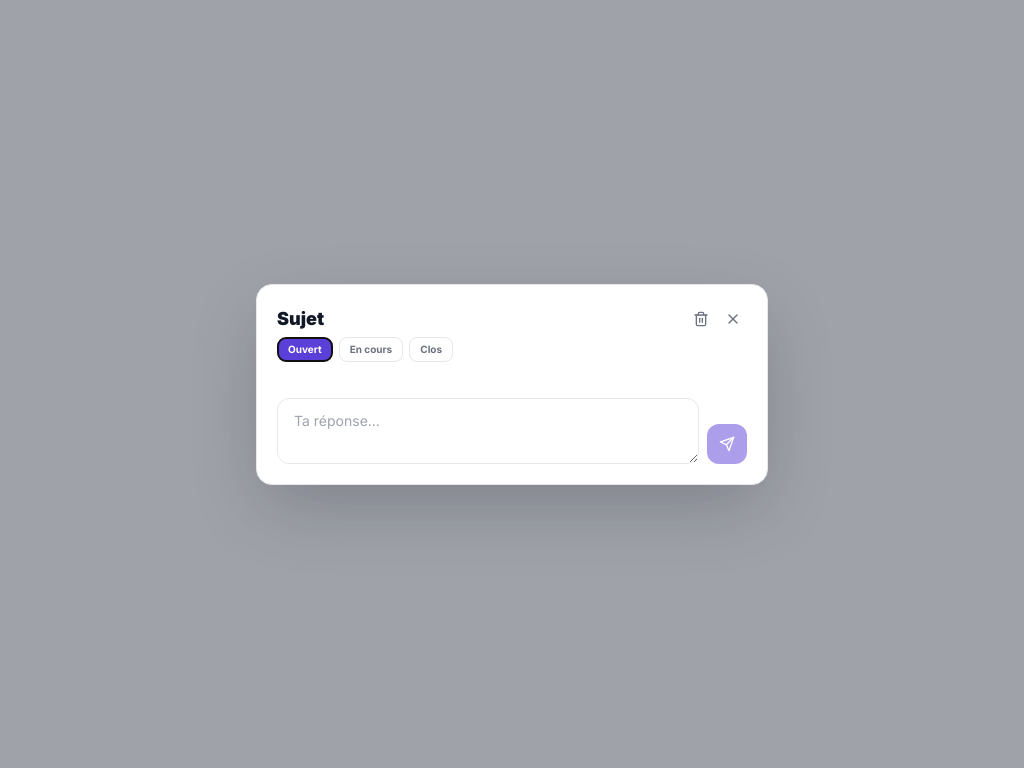
Test: TicketDetailModal -- suppression du ticket › affiche le bouton de suppression pour un admin, qui ouvre une modale de confirmation
Check: the text "Supprimer ce ticket ?" is not shown
What coordinates should you click on to do the following:
click the button named "Supprimer ce ticket"
I would click on:
 (701, 318)
Its box is x1=687 y1=304 x2=715 y2=332.
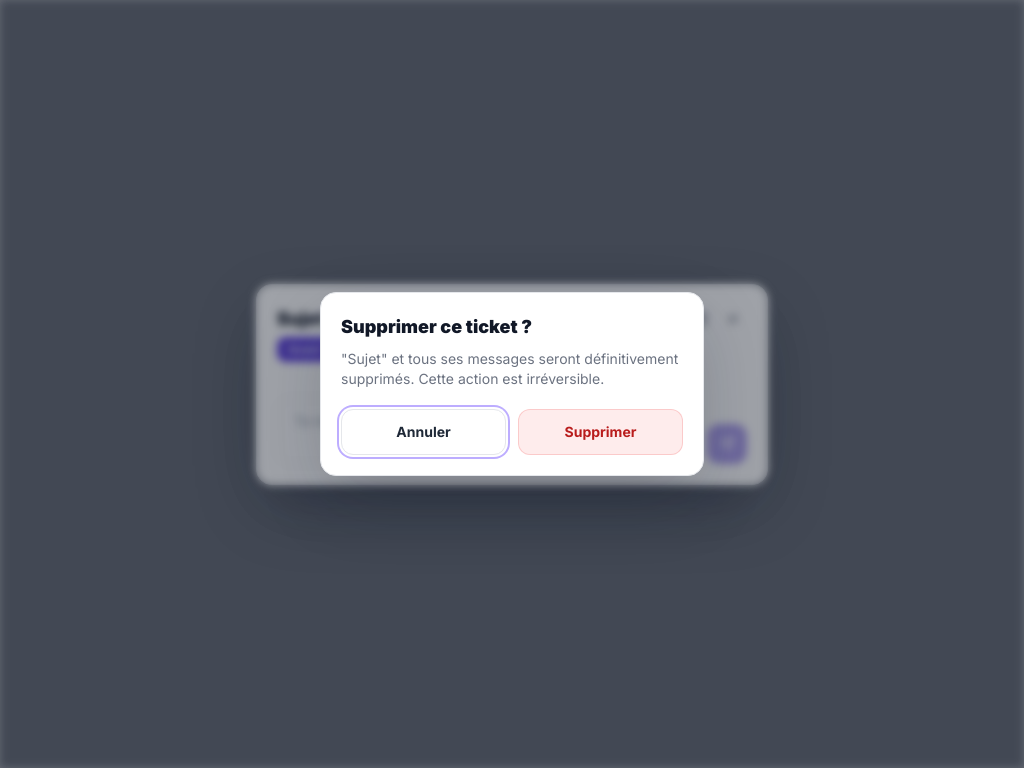
Check: the heading "Supprimer ce ticket ?" is shown, box x1=341 y1=316 x2=532 y2=337
